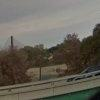Tree: (57, 23, 98, 73)
